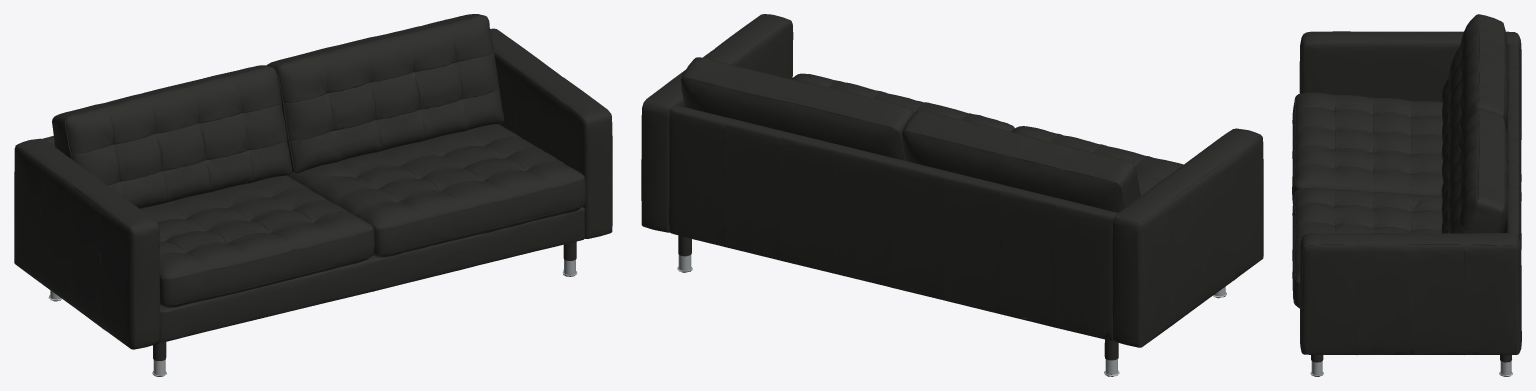
The model's file is 05 - LANDSKRONA Three-seat sofa - GrannBomstad blackmetal.glb.
3 renders of one model, left to right at view 1: azimuth 30°, elevation 25°; view 2: azimuth 150°, elevation 25°; view 3: azimuth 270°, elevation 25°, orthographic. The views are drawn at different scales.
Visible parts, largest first — view 1: Mesh_0; view 2: Mesh_0; view 3: Mesh_0.
Part boxes in pixels (x1,y1,x2,y2): Mesh_0: (14,14,612,376); Mesh_0: (641,14,1263,376); Mesh_0: (1292,14,1521,376).
Bounding box in the file's own units: 2.07 × 0.7883 × 0.9237.
1 material, 1 textured.
